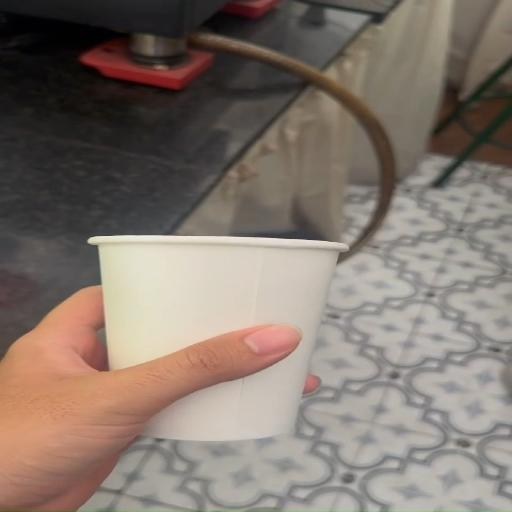Ly_giay: (89, 236, 347, 441)
